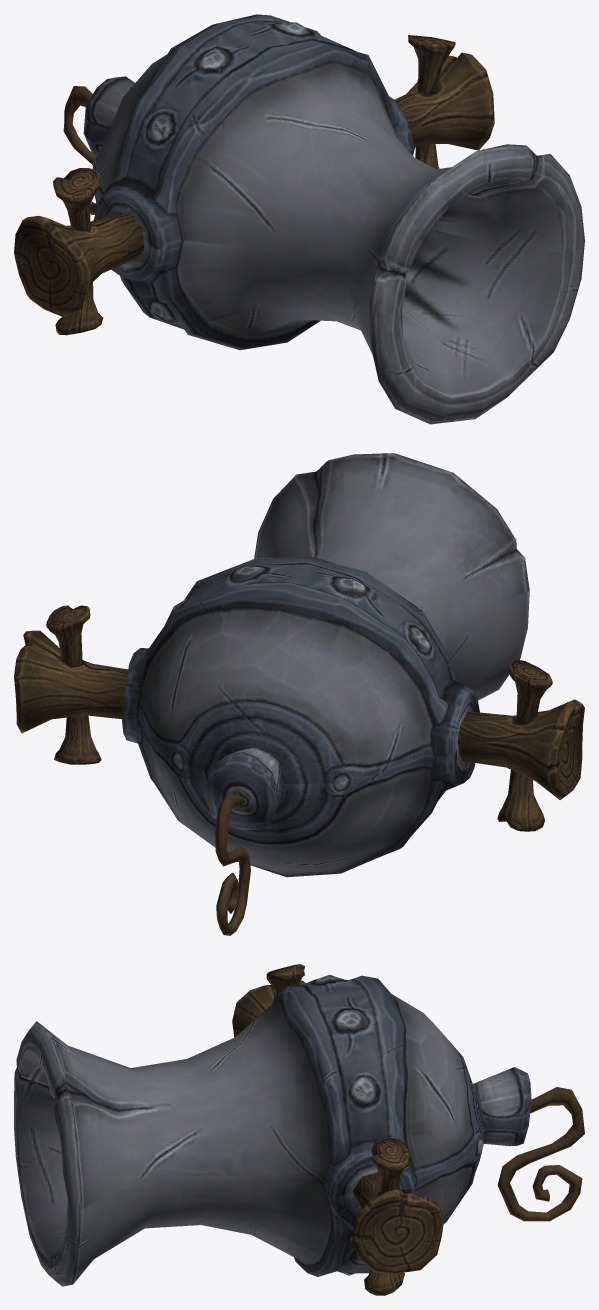
Rendered from cannon.fbx.
3 renders of one model, top to bottom at view 1: azimuth 30°, elevation 25°; view 2: azimuth 150°, elevation 25°; view 3: azimuth 270°, elevation 25°, orthographic. The views are drawn at different scales.
Parts seen in each view (by area): view 1: node_id36; view 2: node_id36; view 3: node_id36.
Boxes of the visible parts, x1,y1,x2,y2 form: node_id36: [14, 14, 584, 424]; node_id36: [14, 453, 584, 935]; node_id36: [14, 964, 584, 1295].
Bounding box in the file's own units: 0.5071 × 0.2857 × 0.5508.
1 material, 1 textured.
